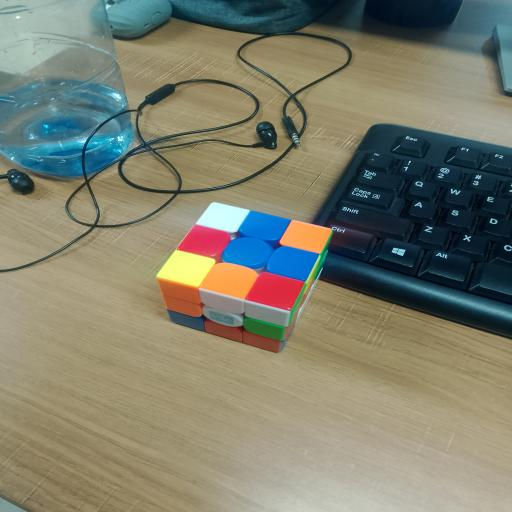cubic: (148, 195, 342, 369)
